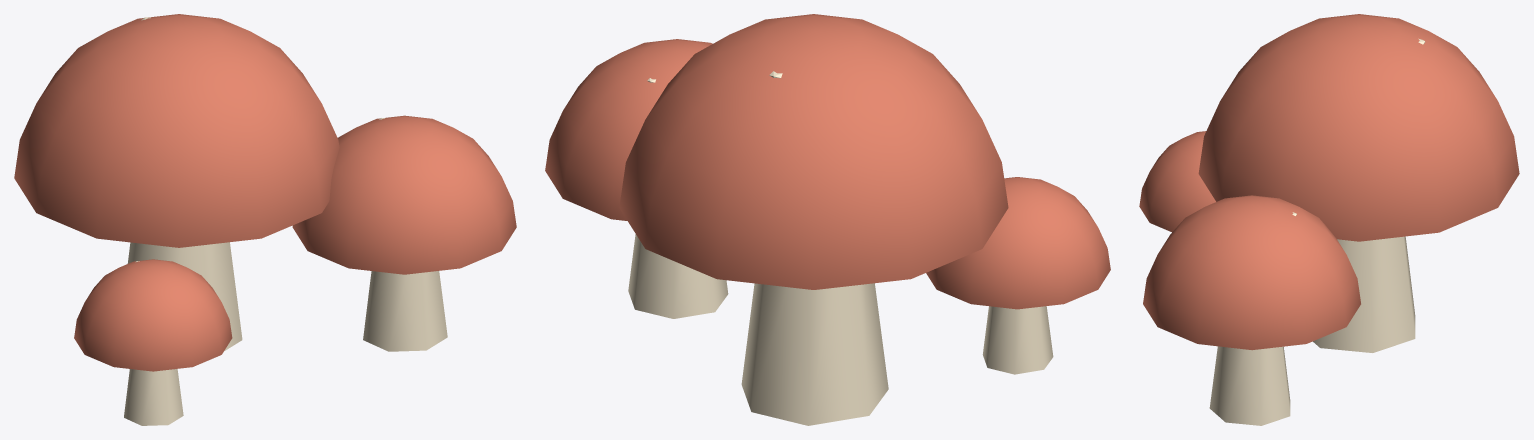
The model's file is mushrooms.glb.
3 renders of one model, left to right at view 1: azimuth 30°, elevation 25°; view 2: azimuth 150°, elevation 25°; view 3: azimuth 270°, elevation 25°, orthographic. The views are drawn at different scales.
Visible parts, largest first — view 1: surface_#df8269, surface_#fff2d6; view 2: surface_#df8269, surface_#fff2d6; view 3: surface_#df8269, surface_#fff2d6.
Boxes of the visible parts, box(x1,y1,x2,y2) form: surface_#df8269: box(14, 14, 516, 371); surface_#fff2d6: box(124, 17, 447, 425); surface_#df8269: box(545, 14, 1110, 309); surface_#fff2d6: box(628, 71, 1053, 425); surface_#df8269: box(1139, 14, 1519, 350); surface_#fff2d6: box(1209, 38, 1425, 425).
Bounding box in the file's own units: 1.1 × 0.74 × 0.8528.
